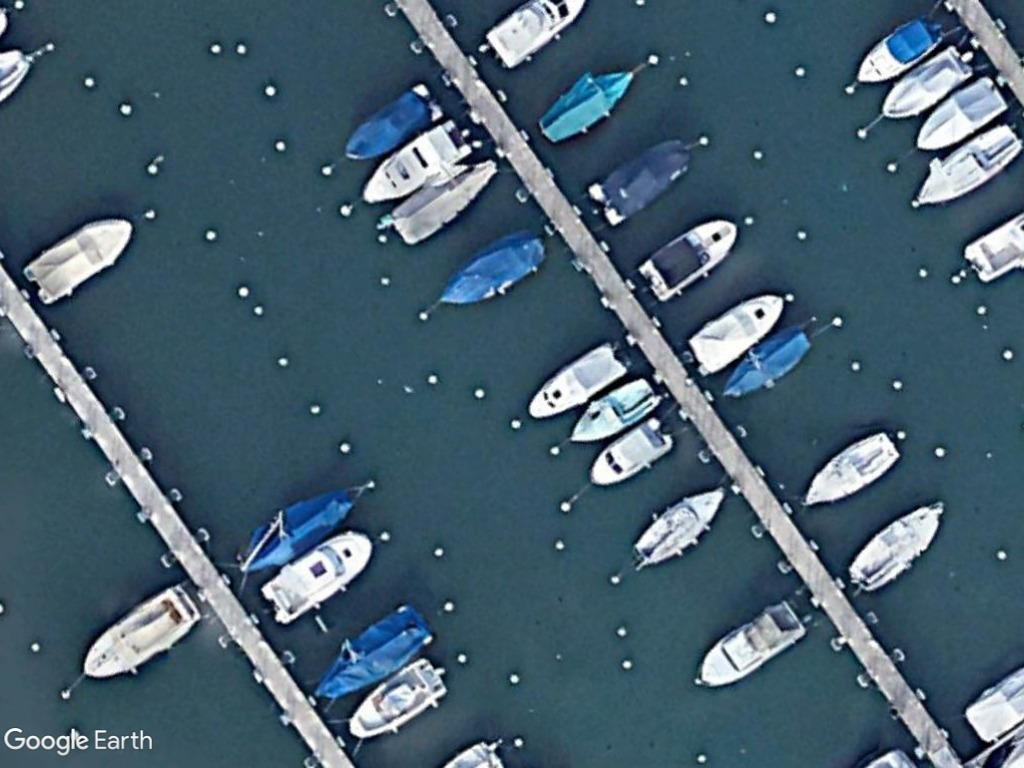boat: (80, 585, 205, 683), (261, 528, 376, 625), (311, 607, 433, 698), (236, 485, 354, 574), (386, 156, 500, 247), (358, 120, 475, 208), (21, 216, 134, 305), (696, 599, 806, 687), (910, 121, 1024, 205), (341, 654, 450, 741), (845, 500, 945, 594), (638, 216, 744, 300), (343, 82, 450, 164), (435, 230, 547, 308), (524, 339, 629, 420), (591, 141, 693, 224), (688, 289, 786, 375), (535, 63, 637, 144), (913, 74, 1015, 154), (631, 482, 727, 567), (800, 432, 903, 508), (716, 324, 816, 399), (851, 13, 949, 88), (878, 47, 976, 121), (584, 417, 673, 492), (564, 375, 661, 443)
